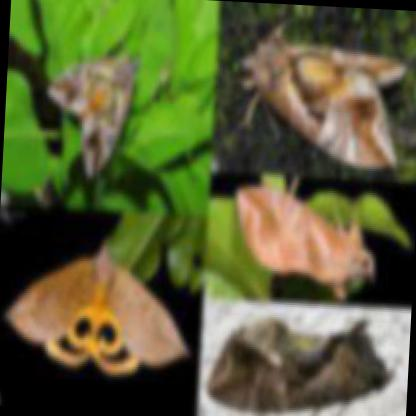fruit sucking moth: (235, 29, 406, 170), (6, 248, 187, 375), (43, 50, 139, 177)
